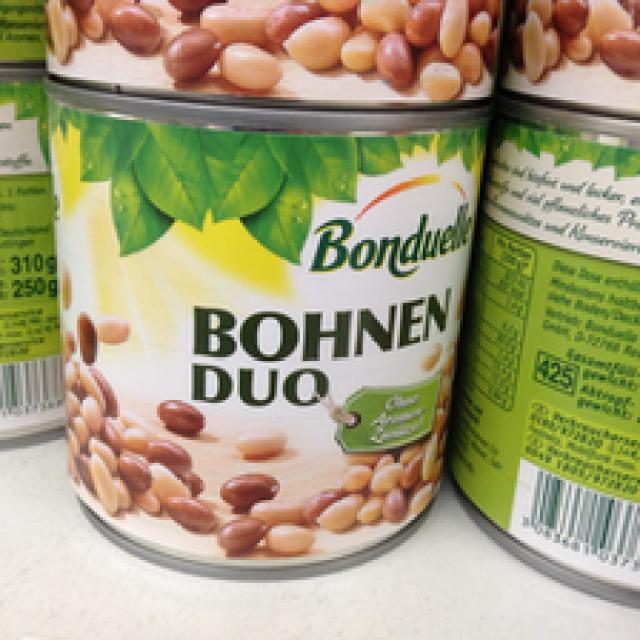groceries: (29, 71, 488, 568)
